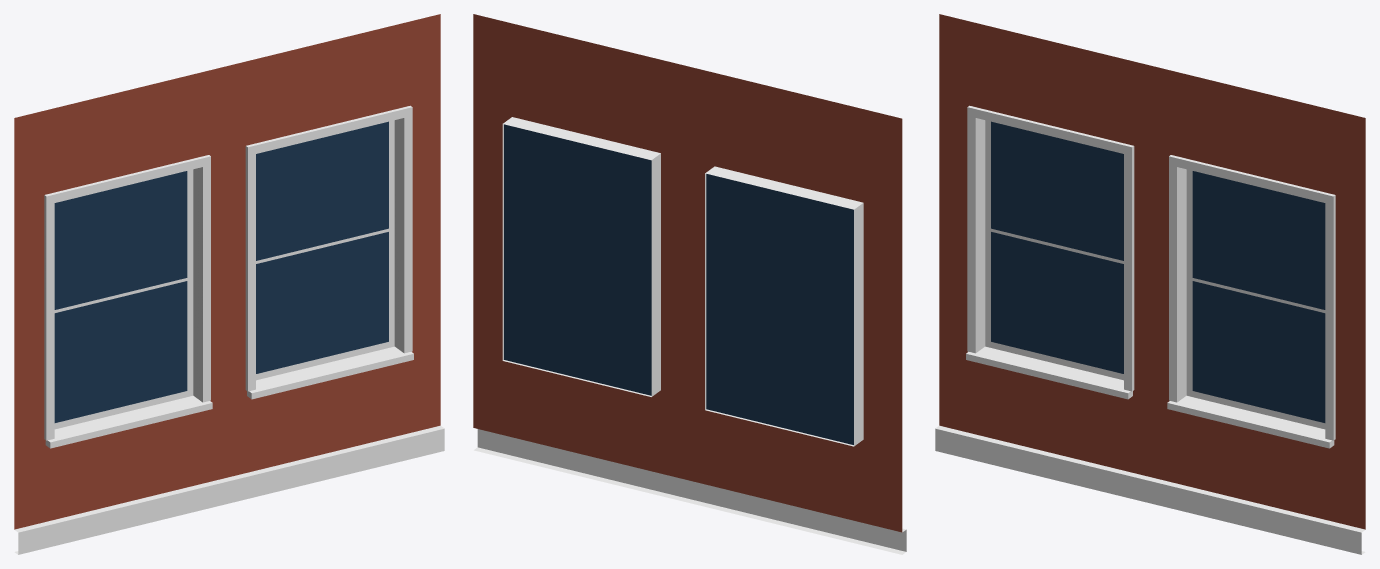
Rendered from mid-w1.fbx.
The picture shows the model from 3 angles, left to right: view 1: azimuth 30°, elevation 25°; view 2: azimuth 150°, elevation 25°; view 3: azimuth 330°, elevation 25°; orthographic projection.
Visible parts, largest first — view 1: a2009/600/mid-w1; view 2: a2009/600/mid-w1; view 3: a2009/600/mid-w1.
Part boxes in pixels (x1,y1,x2,y2): a2009/600/mid-w1: (14, 14, 444, 554); a2009/600/mid-w1: (473, 14, 906, 554); a2009/600/mid-w1: (935, 14, 1365, 554).
Size of the model in its own units: 3.6 by 3.5 by 0.21.
